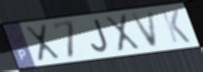7: (52, 19, 78, 60)
J: (89, 18, 110, 55)
K: (160, 8, 193, 45)
V: (129, 8, 160, 50)
X: (23, 22, 63, 63), (103, 13, 143, 54)
